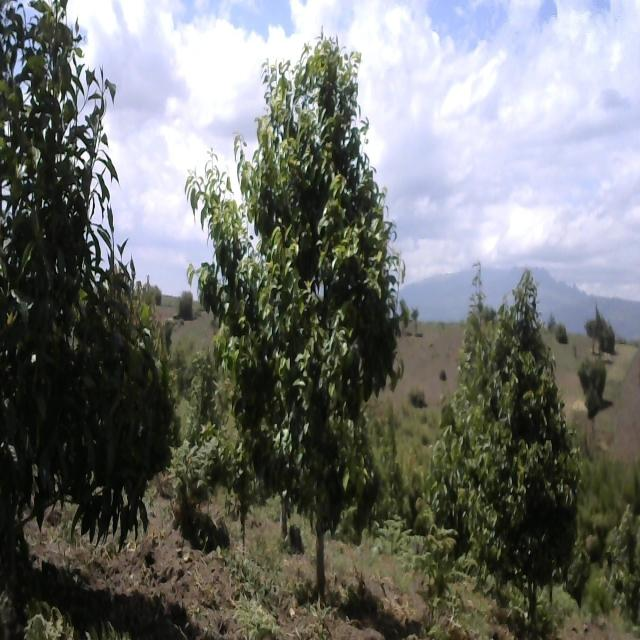Olea welwitchii: (191, 31, 392, 564)
Prunus Africana: (0, 5, 163, 540), (464, 274, 585, 594)
